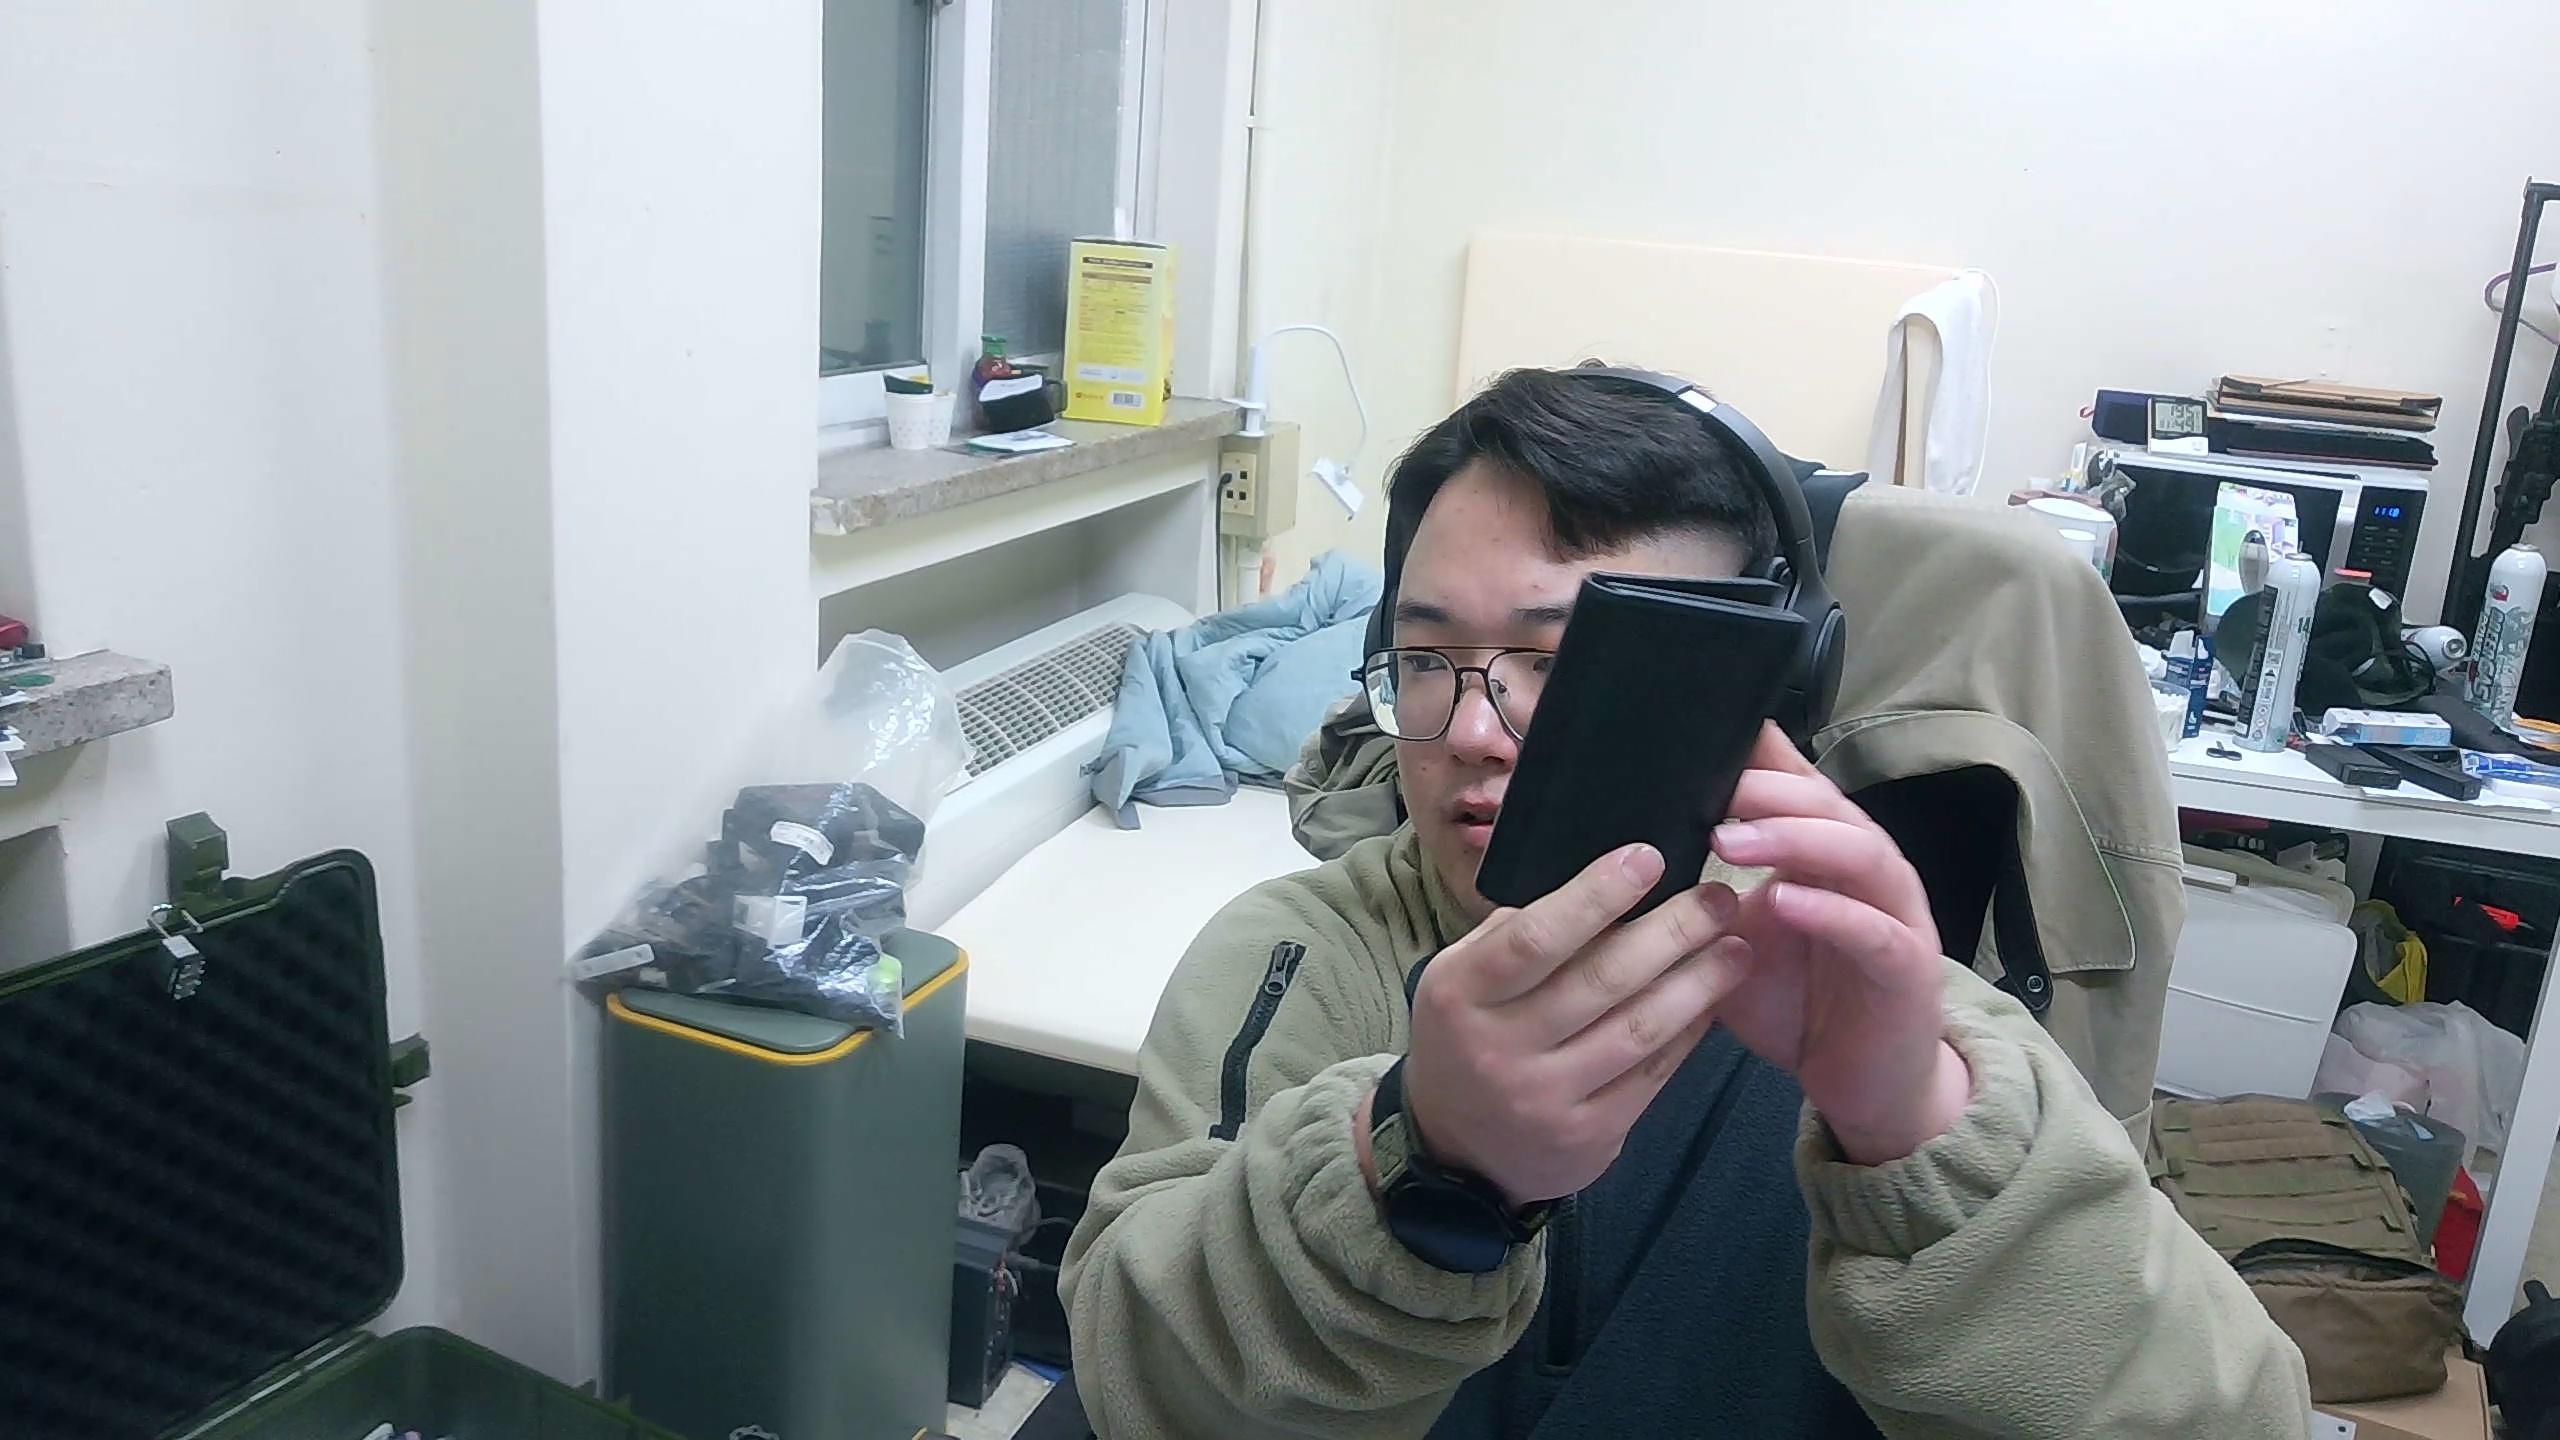Wallet: (1473, 566, 1815, 928)
